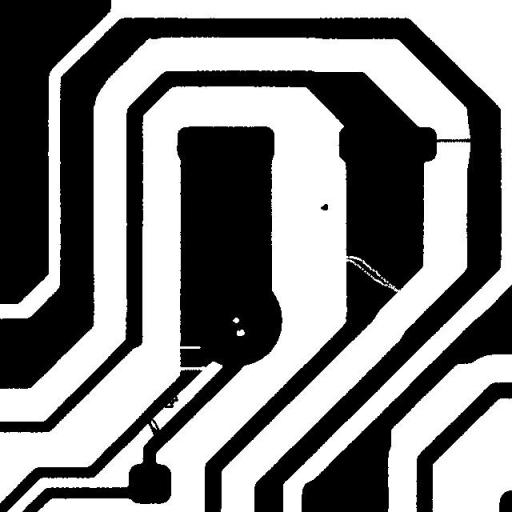copper: (313, 196, 335, 218)
mousebite: (170, 338, 208, 356)
open: (336, 248, 410, 301), (169, 358, 218, 378)
pin-hole: (229, 322, 252, 343)
short: (138, 410, 173, 447), (422, 130, 484, 150)
spur: (156, 386, 186, 415)
